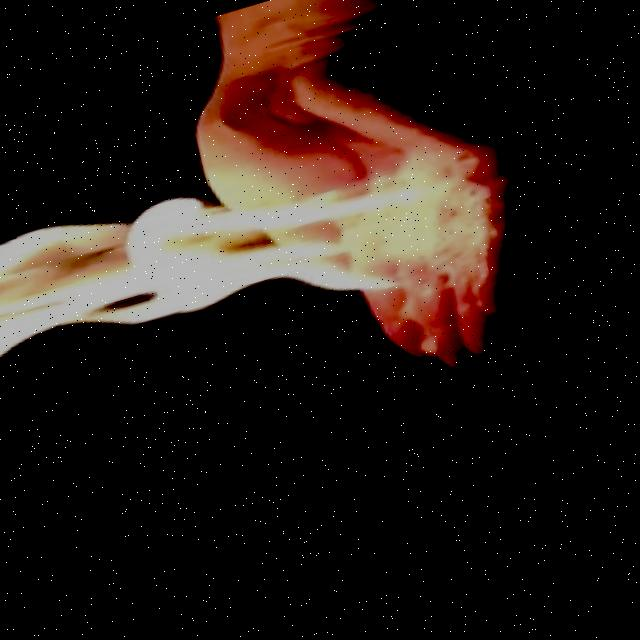Fire: (0, 114, 473, 420)
